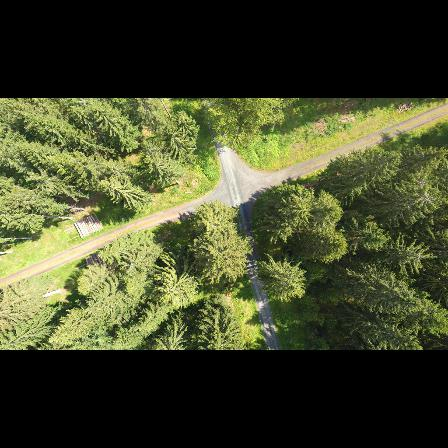Sick: (411, 184, 442, 214), (407, 167, 437, 197)
